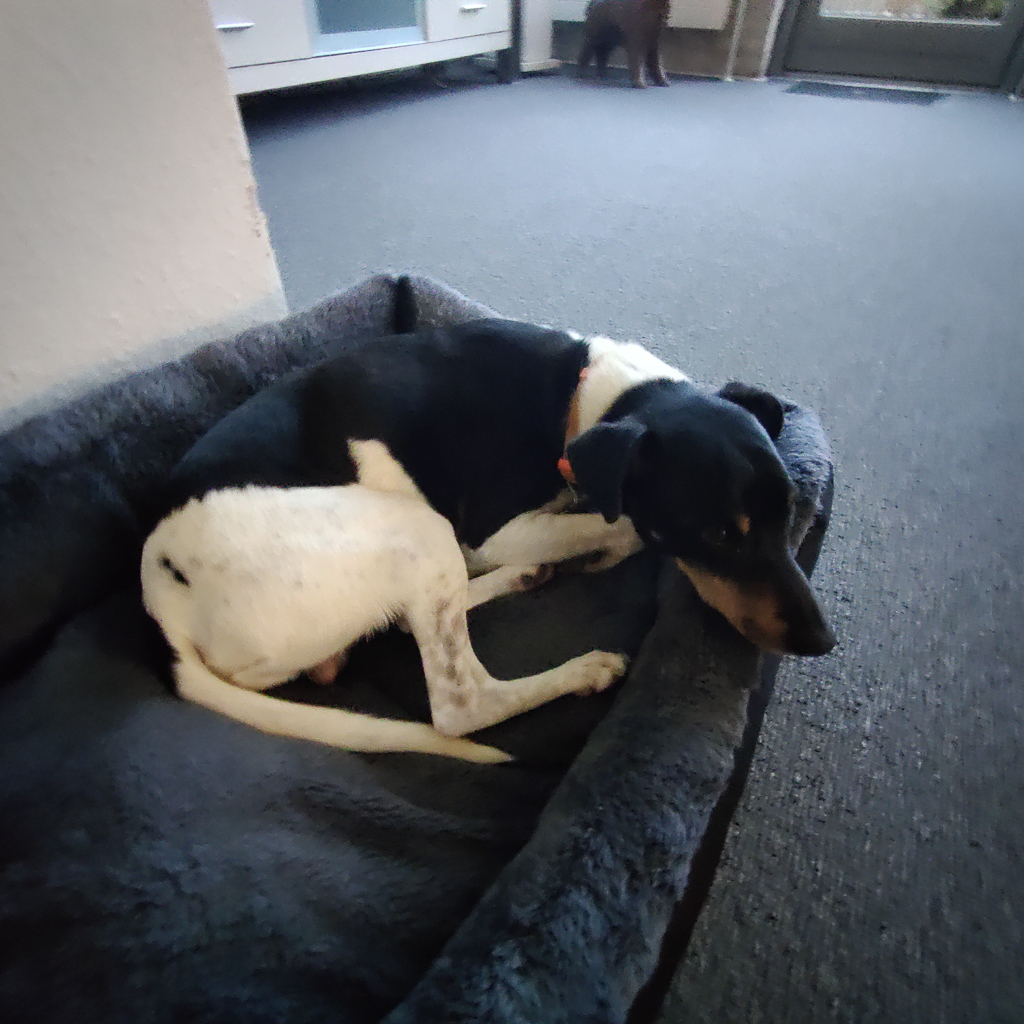Cattle: (566, 0, 684, 91)
Dog: (101, 277, 871, 802)
